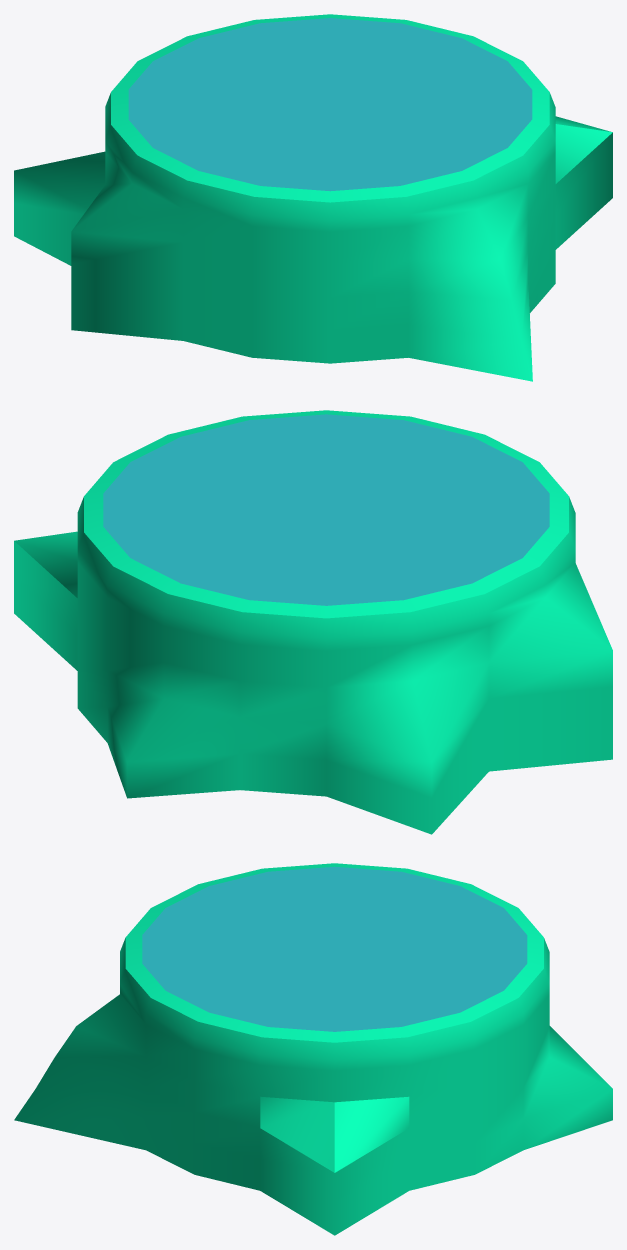
File: Tree Stump 1.fbx
3 renders of one model, top to bottom at view 1: azimuth 30°, elevation 25°; view 2: azimuth 150°, elevation 25°; view 3: azimuth 270°, elevation 25°, orthographic. The views are drawn at different scales.
Visible parts, largest first — view 1: Tree Stump 1; view 2: Tree Stump 1; view 3: Tree Stump 1.
Boxes of the visible parts, x1,y1,x2,y2 form: Tree Stump 1: (14,14,612,381); Tree Stump 1: (14,410,612,834); Tree Stump 1: (14,863,612,1235).
Size of the model in its own units: 26.64 by 7.63 by 26.75.
Materials: 2 (2 with a texture image).
